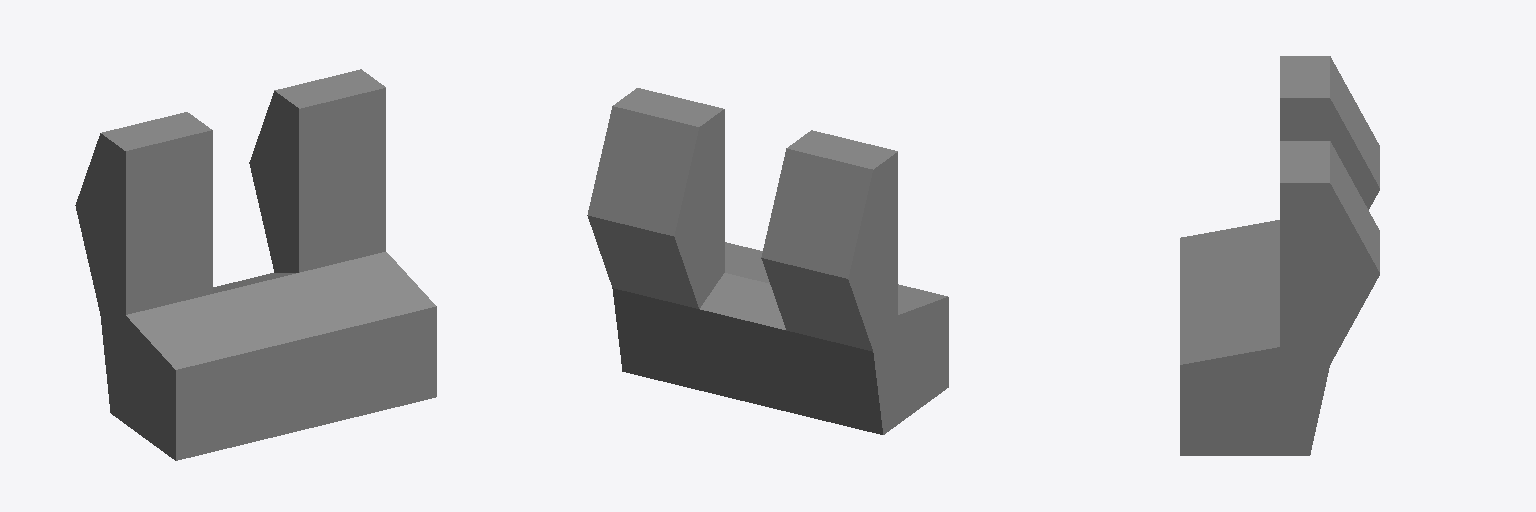
File: door1.obj
3 views of the same model, side by side, from view 1: azimuth 30°, elevation 25°; view 2: azimuth 150°, elevation 25°; view 3: azimuth 270°, elevation 25° (orthographic).
Visible parts, largest first — view 1: Object01; view 2: Object01; view 3: Object01.
Boxes of the visible parts, <box> form: Object01: <box>75,69,436,460</box>; Object01: <box>587,88,948,434</box>; Object01: <box>1180,56,1379,455</box>.
Size of the model in its own units: 3 by 3 by 2.